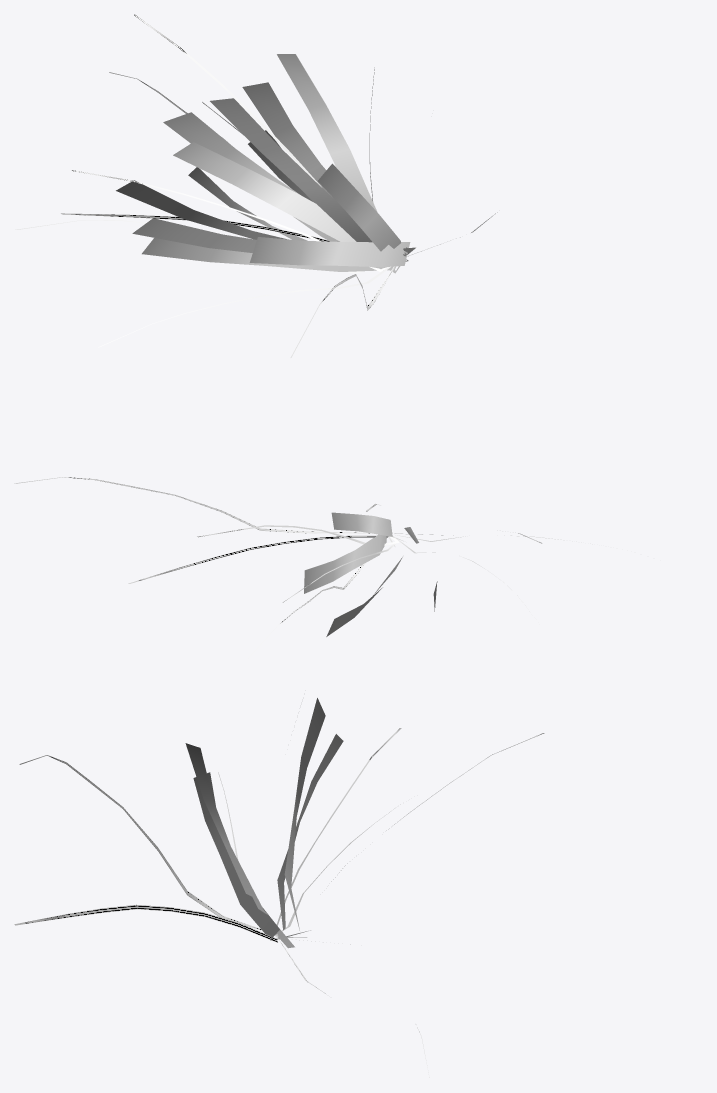
File: WHEEL_FIRE_R.glb
3 renders of one model, top to bottom at view 1: azimuth 30°, elevation 25°; view 2: azimuth 150°, elevation 25°; view 3: azimuth 270°, elevation 25°, orthographic. The views are drawn at different scales.
Parts seen in each view (by area): view 1: obj18, obj17; view 2: obj18, obj17; view 3: obj18, obj17.
Boxes of the visible parts, x1,y1,x2,y2 form: obj18: [116, 54, 415, 271]; obj17: [15, 14, 497, 357]; obj18: [304, 512, 437, 636]; obj17: [14, 477, 592, 658]; obj18: [185, 698, 343, 948]; obj17: [14, 728, 544, 1077].
Size of the model in its own units: 18.03 by 5.46 by 16.41.
8 materials, 8 textured.
